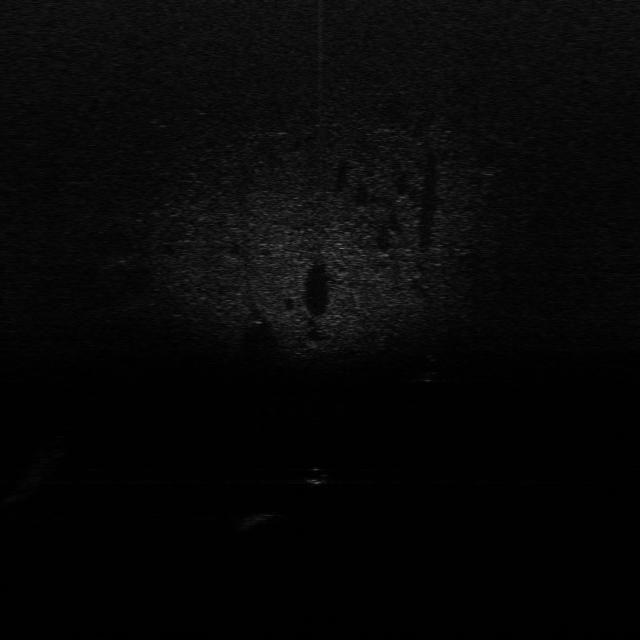ball: (300, 465, 330, 487)
square cage: (234, 510, 284, 532)
tyre: (416, 352, 446, 386)
